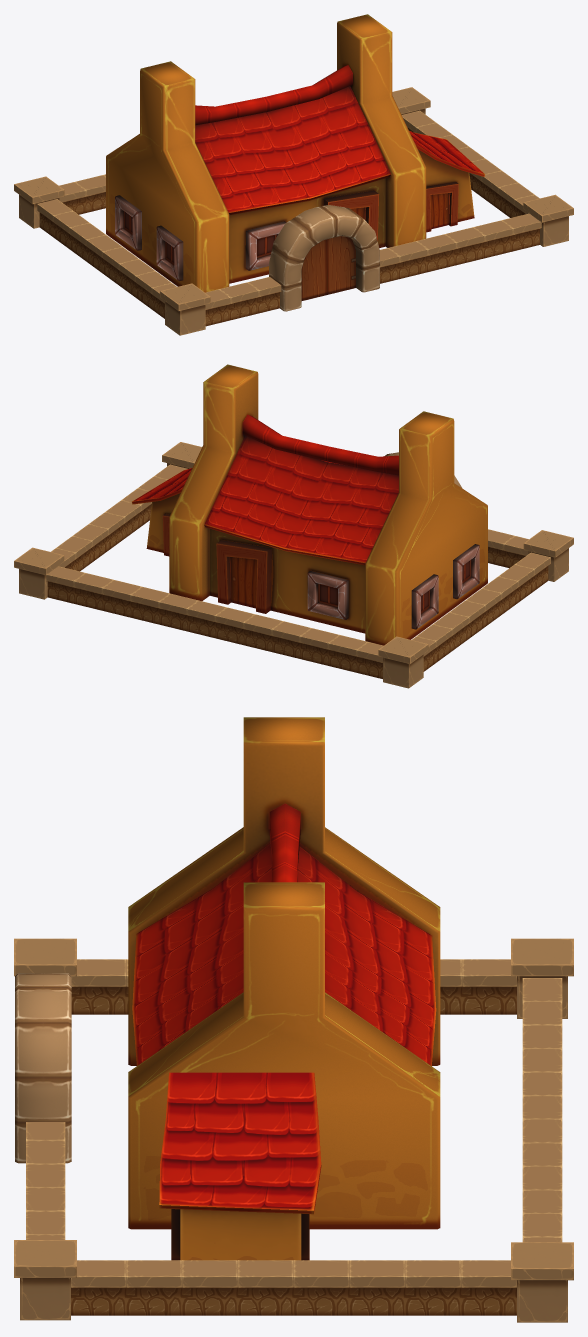
File: House5.FBX
3 renders of one model, top to bottom at view 1: azimuth 30°, elevation 25°; view 2: azimuth 150°, elevation 25°; view 3: azimuth 270°, elevation 25°, orthographic. The views are drawn at different scales.
Parts seen in each view (by area): view 1: House5, Group001; view 2: House5, Group001; view 3: House5, Group001.
Part boxes in pixels (bbox=[...]): House5: bbox=[106, 14, 485, 292]; Group001: bbox=[14, 87, 573, 335]; House5: bbox=[132, 364, 487, 645]; Group001: bbox=[14, 442, 573, 688]; House5: bbox=[128, 717, 440, 1260]; Group001: bbox=[14, 938, 573, 1322].
Size of the model in its own units: 349 by 159 by 250.
